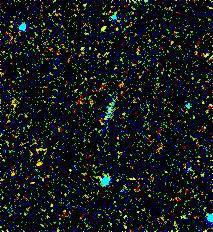star: (29, 150, 59, 180)
